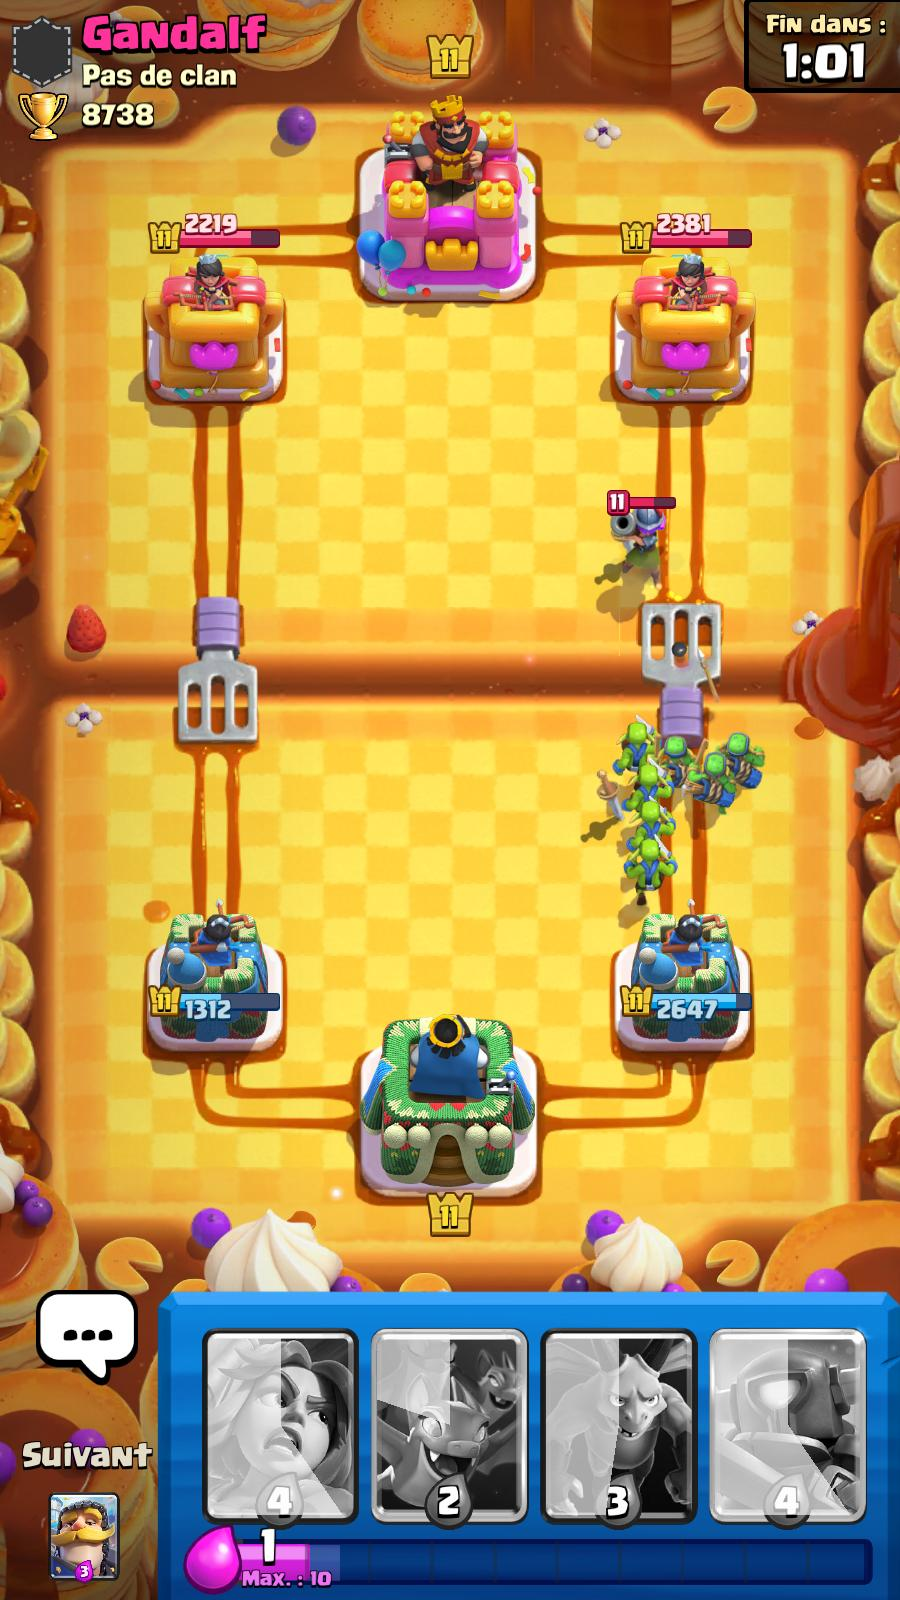gobelin: (591, 705, 662, 777), (619, 834, 677, 910), (625, 763, 679, 821), (630, 797, 668, 848)
gobelin_lances: (688, 740, 734, 811), (714, 729, 768, 789), (655, 727, 701, 791)
mousquetaire: (600, 485, 693, 598)
